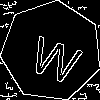W: (26, 26, 87, 86)
